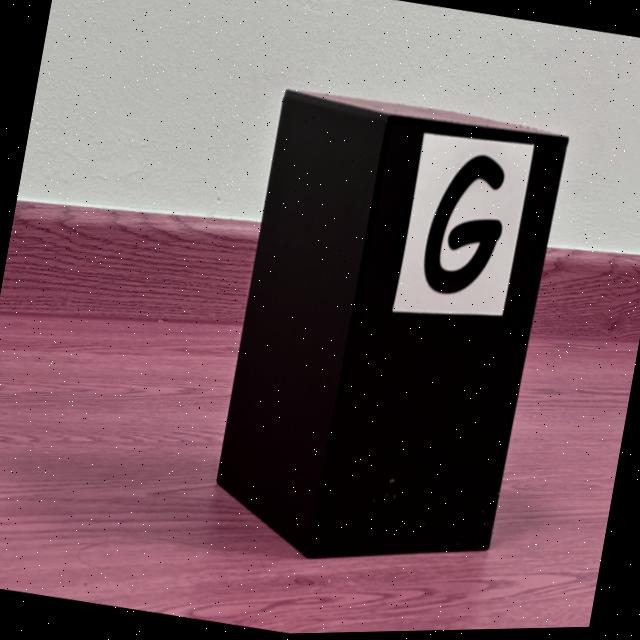G: (423, 157, 504, 296)
